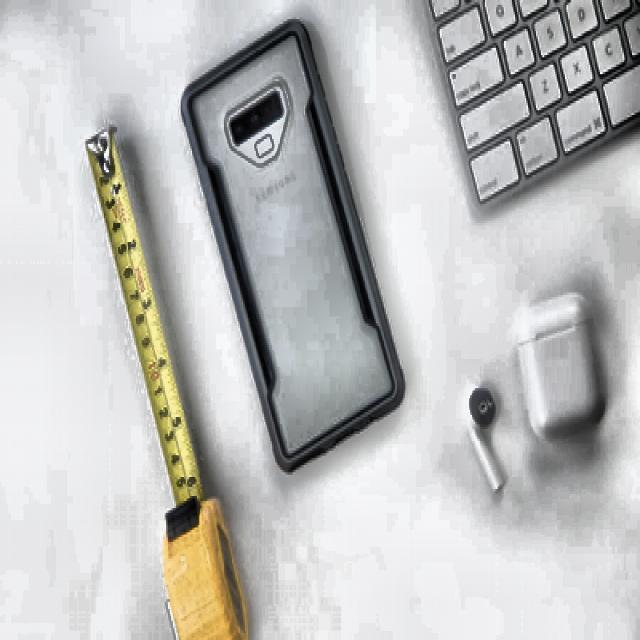Phone: (178, 19, 404, 472)
